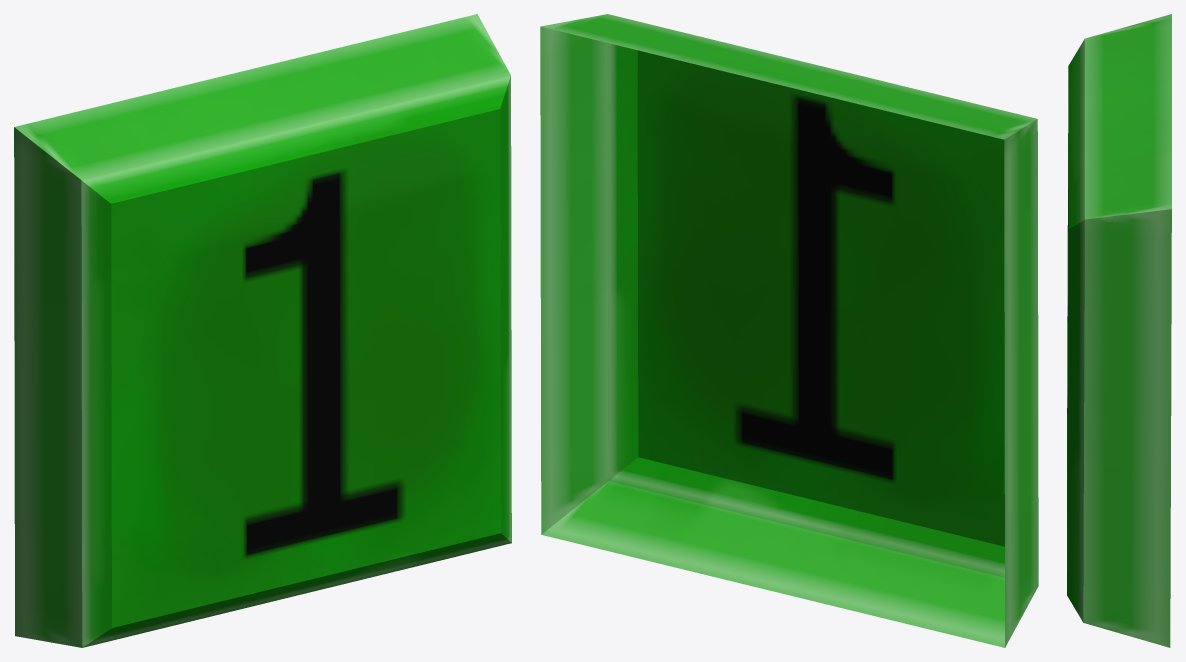
Rendered from PadNumber_1.FBX.
3 views of the same model, side by side, from view 1: azimuth 30°, elevation 25°; view 2: azimuth 150°, elevation 25°; view 3: azimuth 270°, elevation 25° (orthographic). The views are drawn at different scales.
Visible parts, largest first — view 1: Pad_Number_01; view 2: Pad_Number_01; view 3: Pad_Number_01.
Boxes of the visible parts, x1,y1,x2,y2 form: Pad_Number_01: (14, 14, 511, 647); Pad_Number_01: (540, 14, 1038, 647); Pad_Number_01: (1067, 14, 1171, 647).
Size of the model in its own units: 5.37 by 5.63 by 1.22.
Materials: 1 (1 with a texture image).
